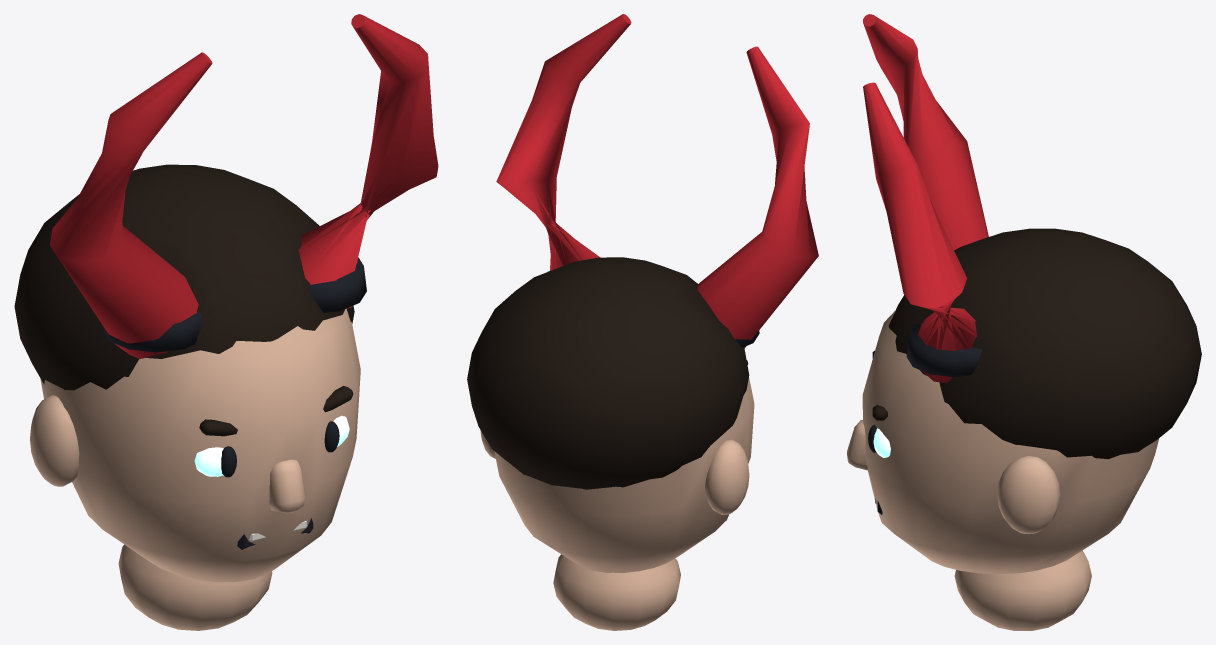
Rendered from coder_head_9.glb.
The picture shows the model from 3 angles, left to right: view 1: azimuth 30°, elevation 25°; view 2: azimuth 150°, elevation 25°; view 3: azimuth 270°, elevation 25°; orthographic projection. The views are drawn at different scales.
Parts seen in each view (by area): view 1: CoderPart; view 2: CoderPart; view 3: CoderPart.
Part boxes in pixels (<box>): CoderPart: <box>14,14,438,630</box>; CoderPart: <box>467,14,818,630</box>; CoderPart: <box>847,14,1201,630</box>.
Size of the model in its own units: 0.2801 by 0.4614 by 0.2583.
